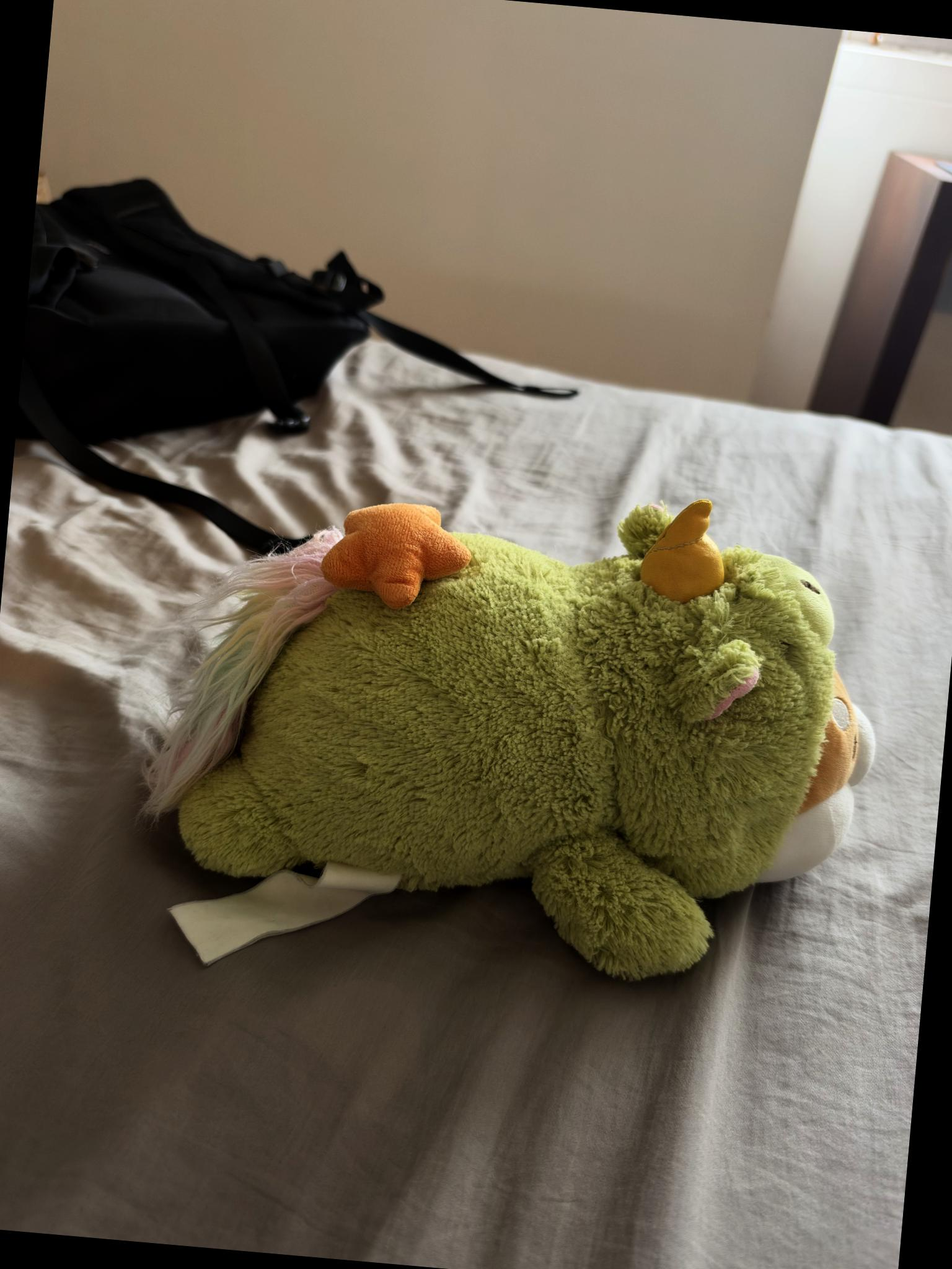peluche_martin: (117, 441, 901, 1023)
